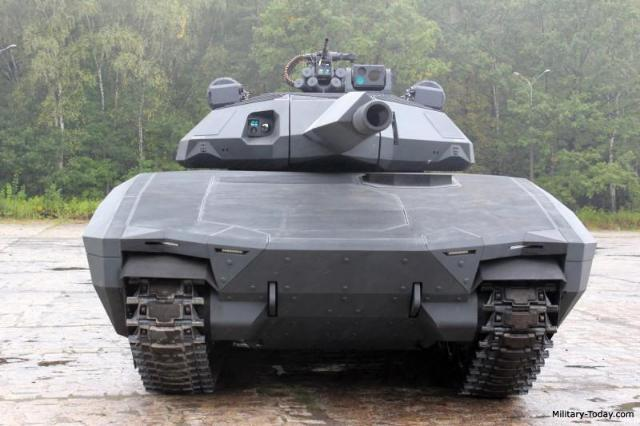tank: (103, 54, 592, 390)
